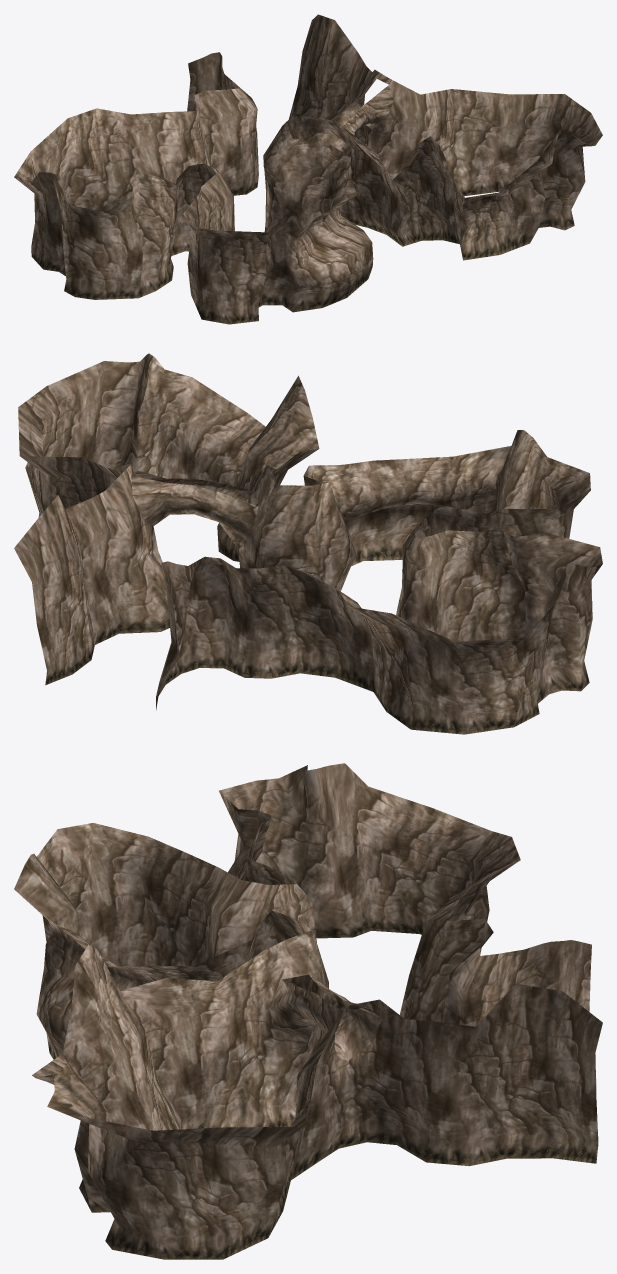
The model's file is OVERHILL_A_01_LINE16.fbx.
The picture shows the model from 3 angles, top to bottom: view 1: azimuth 30°, elevation 25°; view 2: azimuth 150°, elevation 25°; view 3: azimuth 270°, elevation 25°; orthographic projection. The views are drawn at different scales.
Visible parts, largest first — view 1: OVERHILL_A_01_LINE16; view 2: OVERHILL_A_01_LINE16; view 3: OVERHILL_A_01_LINE16.
Part boxes in pixels (<box>): OVERHILL_A_01_LINE16: <box>14,14,602,324</box>; OVERHILL_A_01_LINE16: <box>14,353,602,734</box>; OVERHILL_A_01_LINE16: <box>14,763,602,1259</box>.
Bounding box in the file's own units: 271600 × 70873 × 193283.
Materials: 2 (2 with a texture image).
